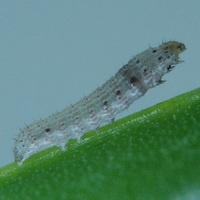insect: (14, 41, 184, 161)
